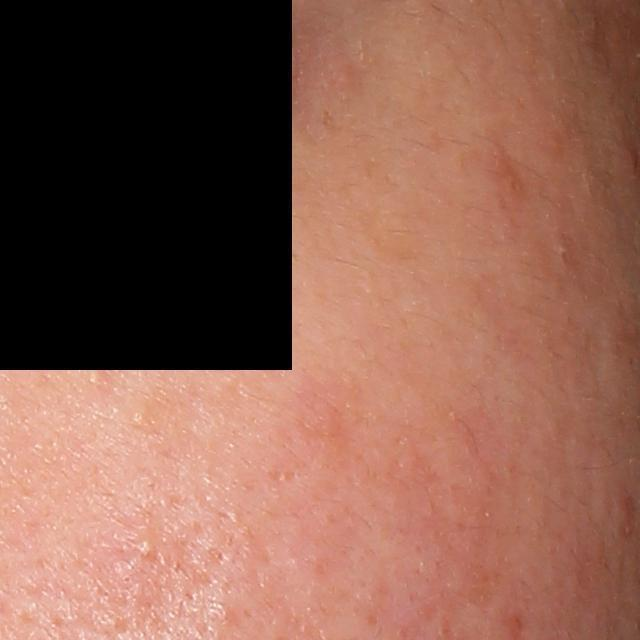comedo: (130, 532, 158, 559)
papule: (624, 142, 639, 176)
